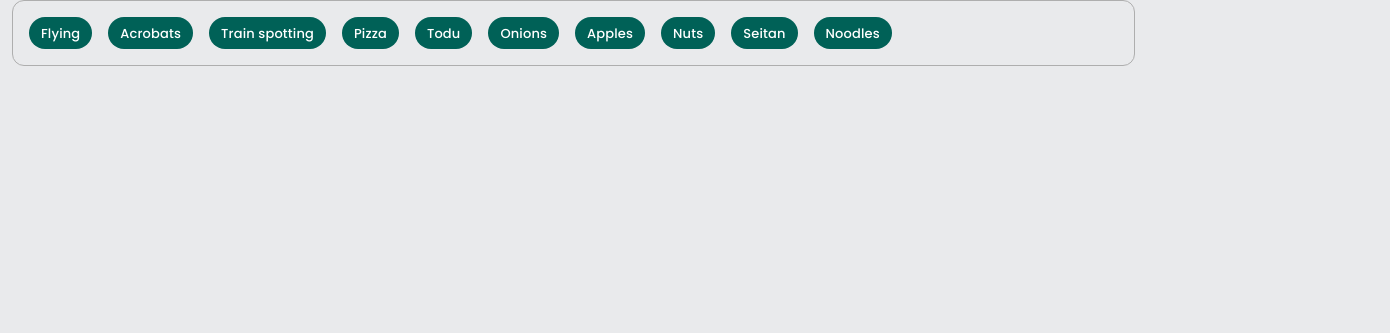
Scenario: SkillsAddForm › Sucessful data › renders step by step
This screenshot has width=1390, height=333.
Check: the text "Flying" is shown, box [41,24,80,42]
Check: the text "Aasic" is not shown
Click the button "Flying": (61, 33) [29,17,92,49]
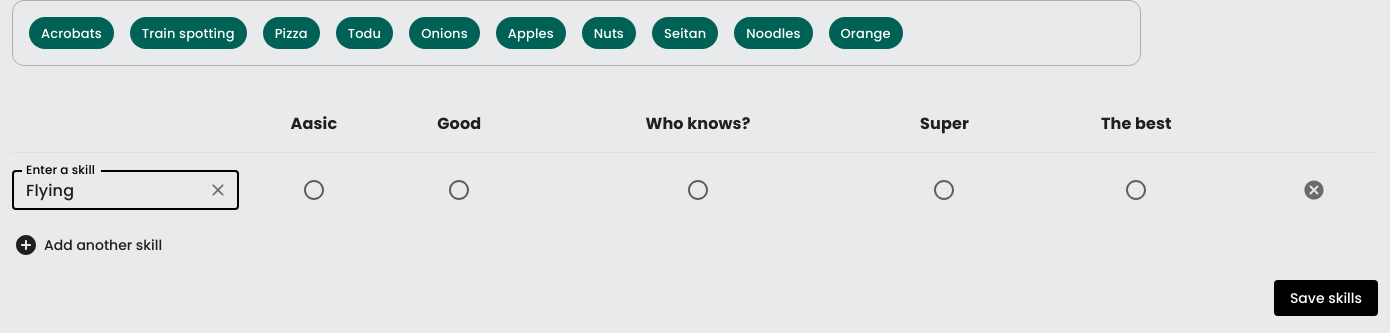
Check: the dropdown with test id "input_skillname-0" is shown, box [18,176,200,204]
